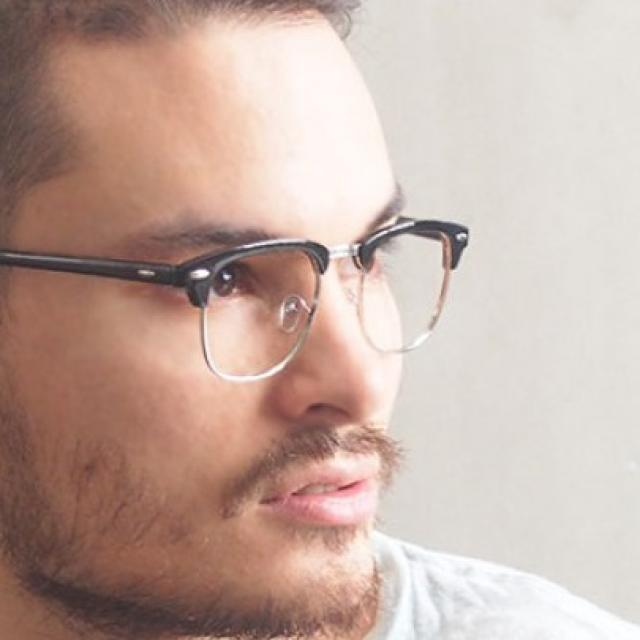Depress: (3, 14, 406, 631)
